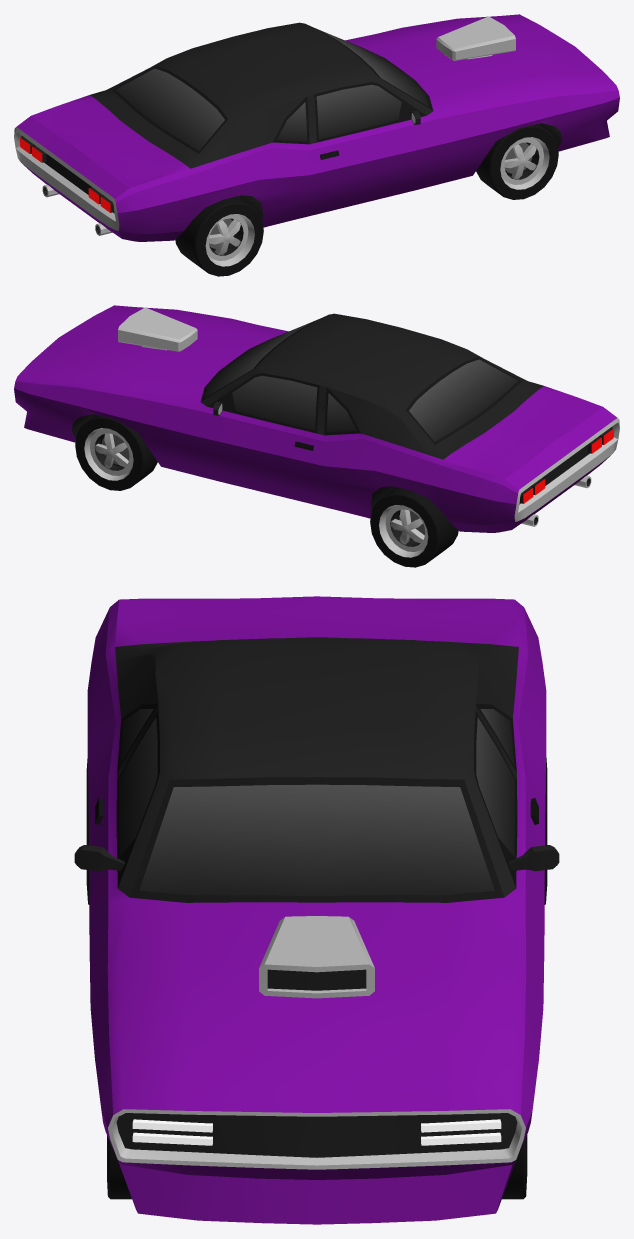
File: Car_113.glb
3 views of the same model, one above another, from view 1: azimuth 30°, elevation 25°; view 2: azimuth 150°, elevation 25°; view 3: azimuth 270°, elevation 25° (orthographic). The views are drawn at different scales.
Visible parts, largest first — view 1: Car_113, wheel_3_Car_113_Wheel_2R, wheel_1_Car_113_Wheel_1R; view 2: Car_113, wheel_2_Car_113_Wheel_2L, wheel_0_Car_113_Wheel_1L; view 3: Car_113, wheel_0_Car_113_Wheel_1L, wheel_1_Car_113_Wheel_1R.
Boxes of the visible parts, x1,y1,x2,y2 form: Car_113: [14, 14, 619, 241]; wheel_3_Car_113_Wheel_2R: [175, 196, 263, 276]; wheel_1_Car_113_Wheel_1R: [476, 124, 558, 199]; Car_113: [14, 305, 619, 532]; wheel_2_Car_113_Wheel_2L: [370, 487, 458, 567]; wheel_0_Car_113_Wheel_1L: [75, 415, 157, 490]; Car_113: [74, 596, 559, 1224]; wheel_0_Car_113_Wheel_1L: [502, 1135, 527, 1199]; wheel_1_Car_113_Wheel_1R: [107, 1135, 131, 1199].
Bounding box in the file's own units: 5.02 × 1.41 × 2.05.
3 materials, 3 textured.
